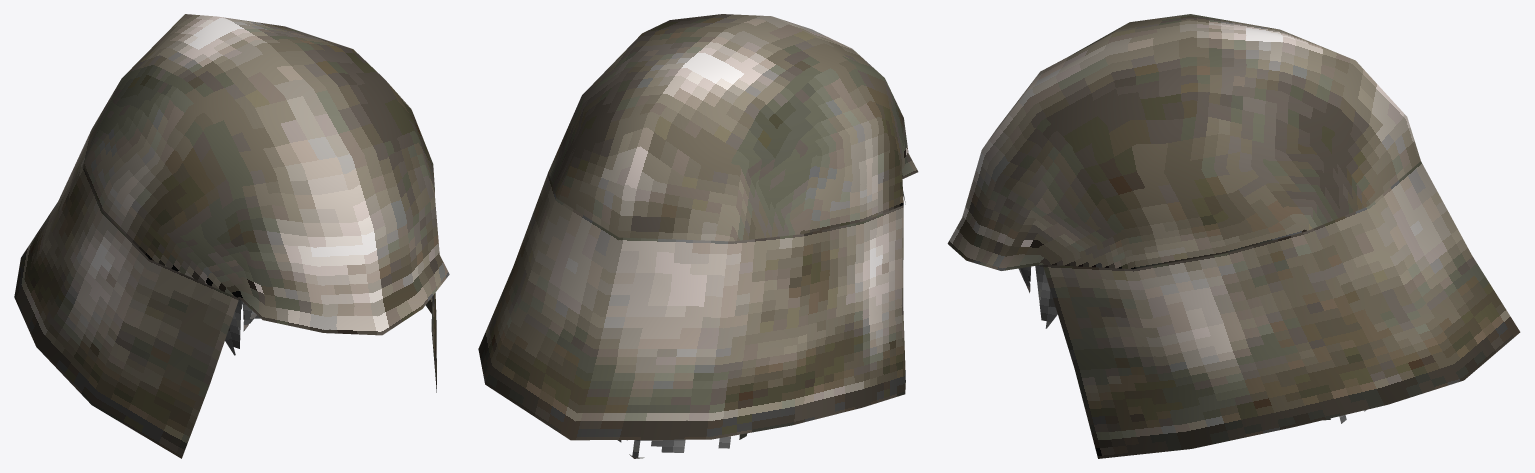
File: m_hair015.glb
3 renders of one model, left to right at view 1: azimuth 30°, elevation 25°; view 2: azimuth 150°, elevation 25°; view 3: azimuth 270°, elevation 25°, orthographic. The views are drawn at different scales.
Size of the model in its own units: 21.67 by 20.49 by 29.02.
Materials: 1 (1 with a texture image).
